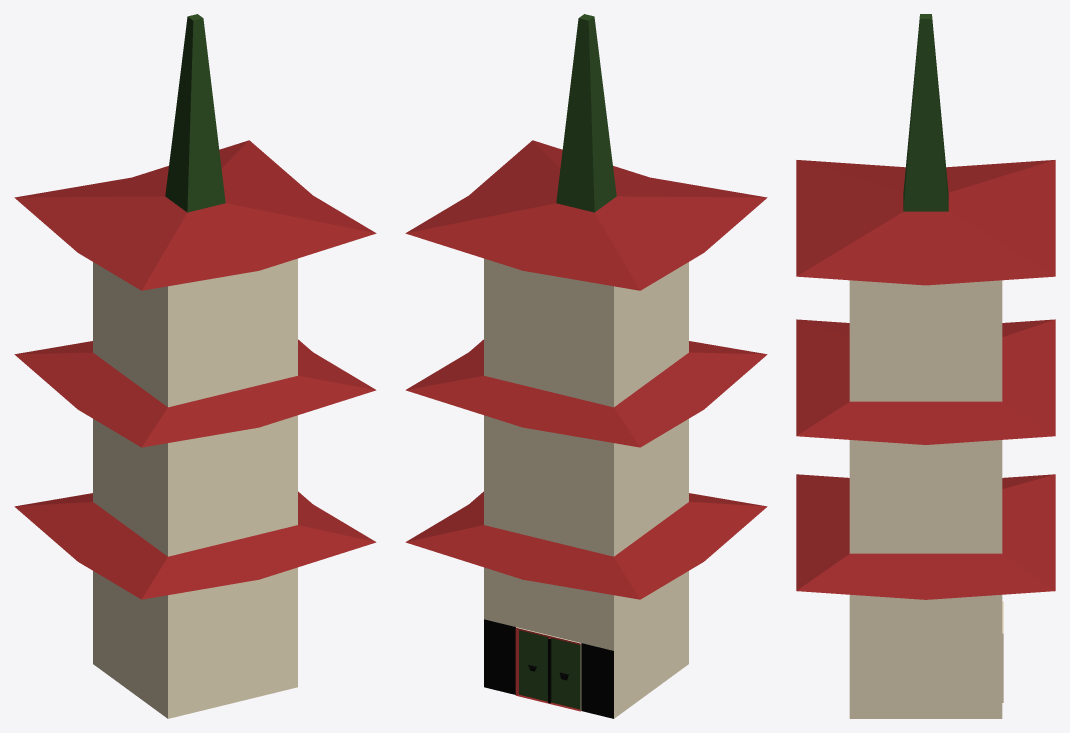
File: temple.glb
3 renders of one model, left to right at view 1: azimuth 30°, elevation 25°; view 2: azimuth 150°, elevation 25°; view 3: azimuth 270°, elevation 25°, orthographic.
Visible parts, largest first — view 1: Temple; view 2: Temple; view 3: Temple.
Boxes of the visible parts, left/top/right/bottom form: Temple: left=14, top=14, right=376, bottom=718; Temple: left=405, top=14, right=767, bottom=718; Temple: left=796, top=14, right=1055, bottom=718.
Bounding box in the file's own units: 3.62 × 9.68 × 3.4.
1 material, 1 textured.
